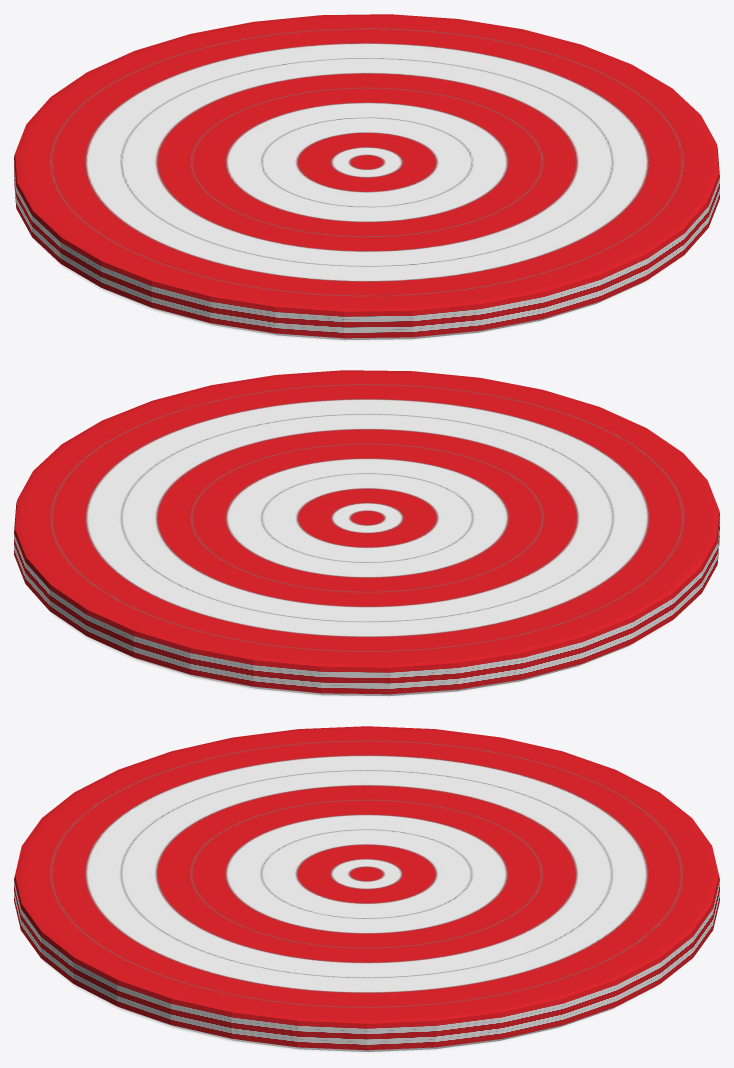
Rendered from Target.fbx.
3 renders of one model, top to bottom at view 1: azimuth 30°, elevation 25°; view 2: azimuth 150°, elevation 25°; view 3: azimuth 270°, elevation 25°, orthographic.
Parts seen in each view (by area): view 1: Target; view 2: Target; view 3: Target.
Part boxes in pixels (x1,y1,x2,y2): Target: [14, 14, 719, 341]; Target: [14, 370, 719, 697]; Target: [14, 726, 719, 1053].
Size of the model in its own units: 100 by 5 by 100.
